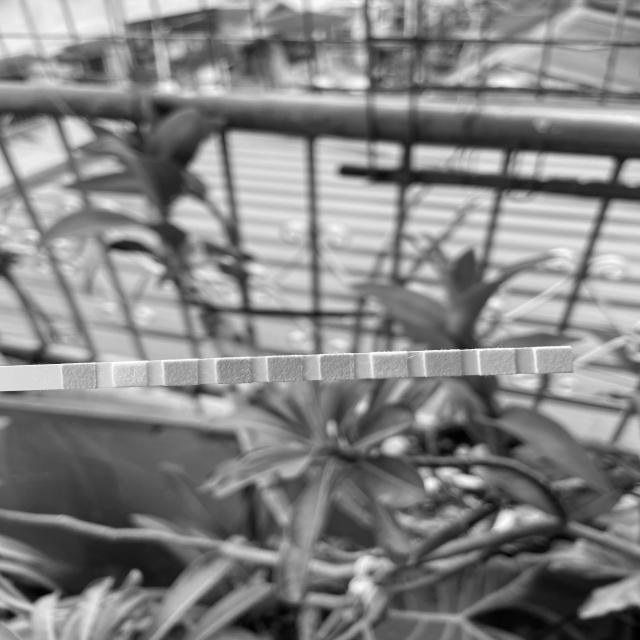Bilirubin: (114, 363, 147, 386)
Blood: (269, 358, 302, 380)
Glucose: (63, 364, 96, 388)
Ketone: (165, 362, 198, 384)
Leukocytes: (536, 350, 570, 372)
Nitrite: (481, 351, 514, 374)
Protein: (373, 354, 406, 377)
SpGravity: (217, 360, 250, 382)
Urobilinogen: (427, 353, 460, 376)
background: (0, 0, 640, 640)
pH: (321, 356, 354, 378)
strip: (1, 346, 574, 392)
